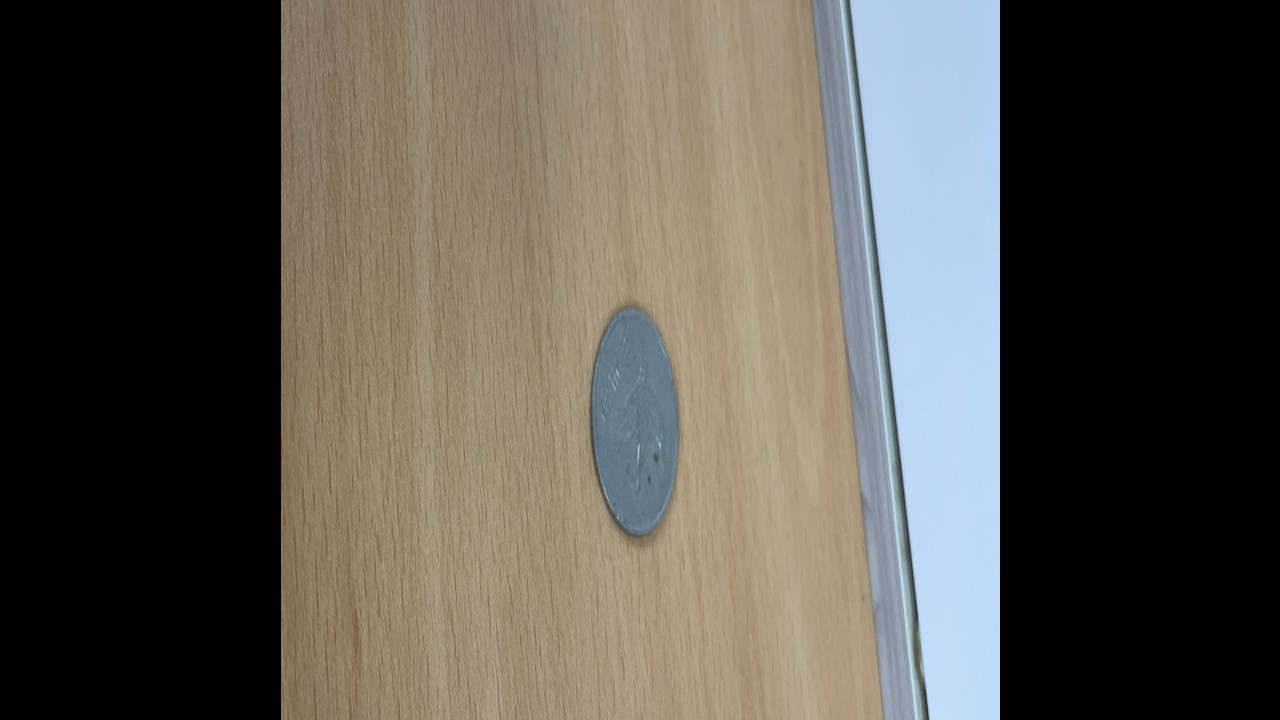coin: (589, 304, 679, 544)
